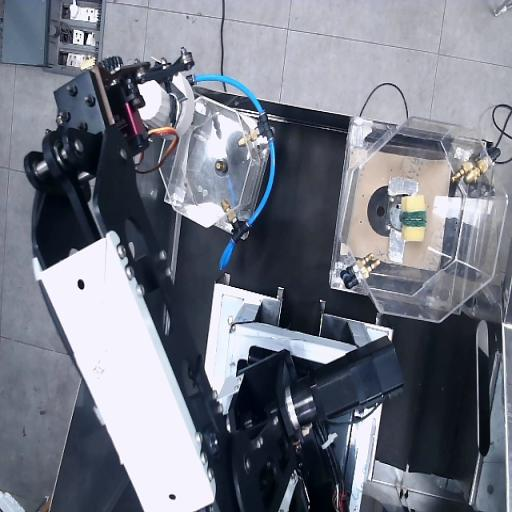cup in rinse station: (138, 74, 194, 137)
